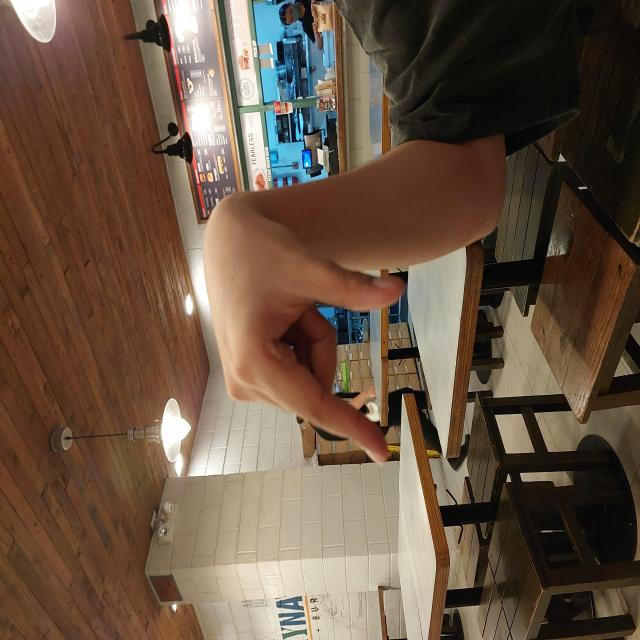Q: (174, 200, 426, 406)
